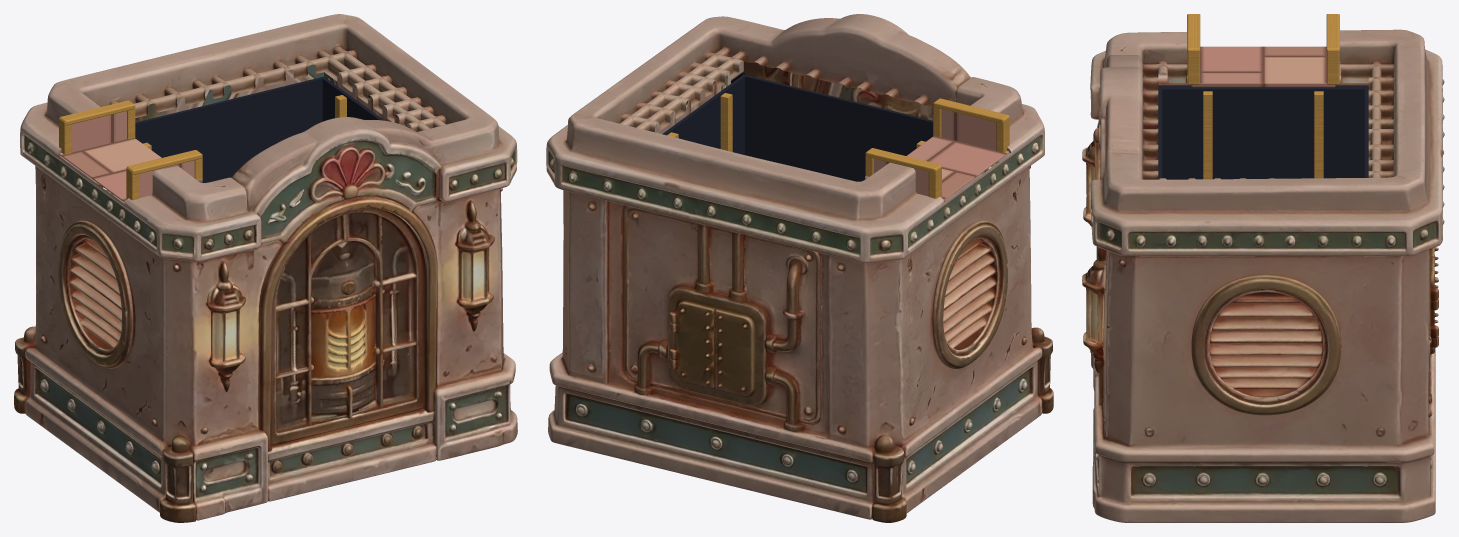
The model's file is act2_boiler_hollow.glb.
3 views of the same model, side by side, from view 1: azimuth 30°, elevation 25°; view 2: azimuth 150°, elevation 25°; view 3: azimuth 270°, elevation 25° (orthographic). The views are drawn at different scales.
Parts seen in each view (by area): view 1: RODIN_BoilerHollow_Body, SM_Boiler_WellLining; view 2: RODIN_BoilerHollow_Body, SM_Boiler_WellLining; view 3: RODIN_BoilerHollow_Body, SM_Boiler_WellLining.
Part boxes in pixels (left/top/right/bottom): RODIN_BoilerHollow_Body: left=14, top=14, right=517, bottom=522; SM_Boiler_WellLining: left=59, top=76, right=383, bottom=202; RODIN_BoilerHollow_Body: left=546, top=14, right=1053, bottom=522; SM_Boiler_WellLining: left=662, top=74, right=1009, bottom=200; RODIN_BoilerHollow_Body: left=1082, top=29, right=1444, bottom=522; SM_Boiler_WellLining: left=1158, top=14, right=1368, bottom=179.
Size of the model in its own units: 1.09 by 1 by 0.915.
Materials: 5 (3 with a texture image).
